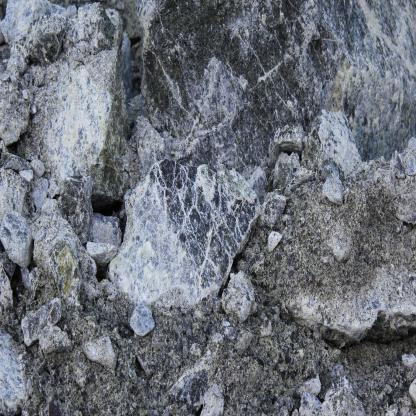stone: (106, 164, 262, 309), (301, 111, 364, 174), (25, 11, 66, 64), (0, 79, 30, 145), (62, 177, 93, 238), (21, 297, 61, 344), (1, 213, 32, 268), (223, 272, 257, 322), (84, 336, 117, 372), (256, 197, 288, 229), (37, 326, 73, 352), (129, 304, 157, 336), (274, 123, 302, 152), (199, 386, 226, 416), (85, 239, 115, 265), (322, 176, 343, 204), (298, 391, 321, 416), (1, 153, 29, 170), (389, 152, 405, 179)
